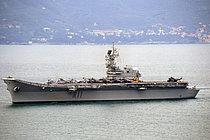MIL_Ship: (2, 49, 202, 99)
